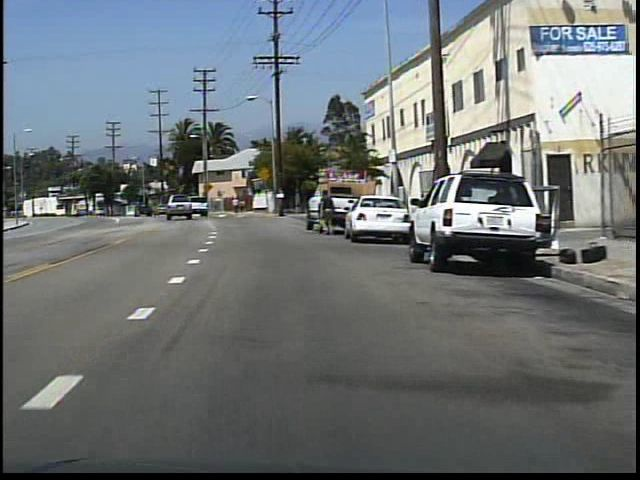person: (315, 184, 337, 240), (231, 197, 241, 217), (238, 198, 247, 215)
